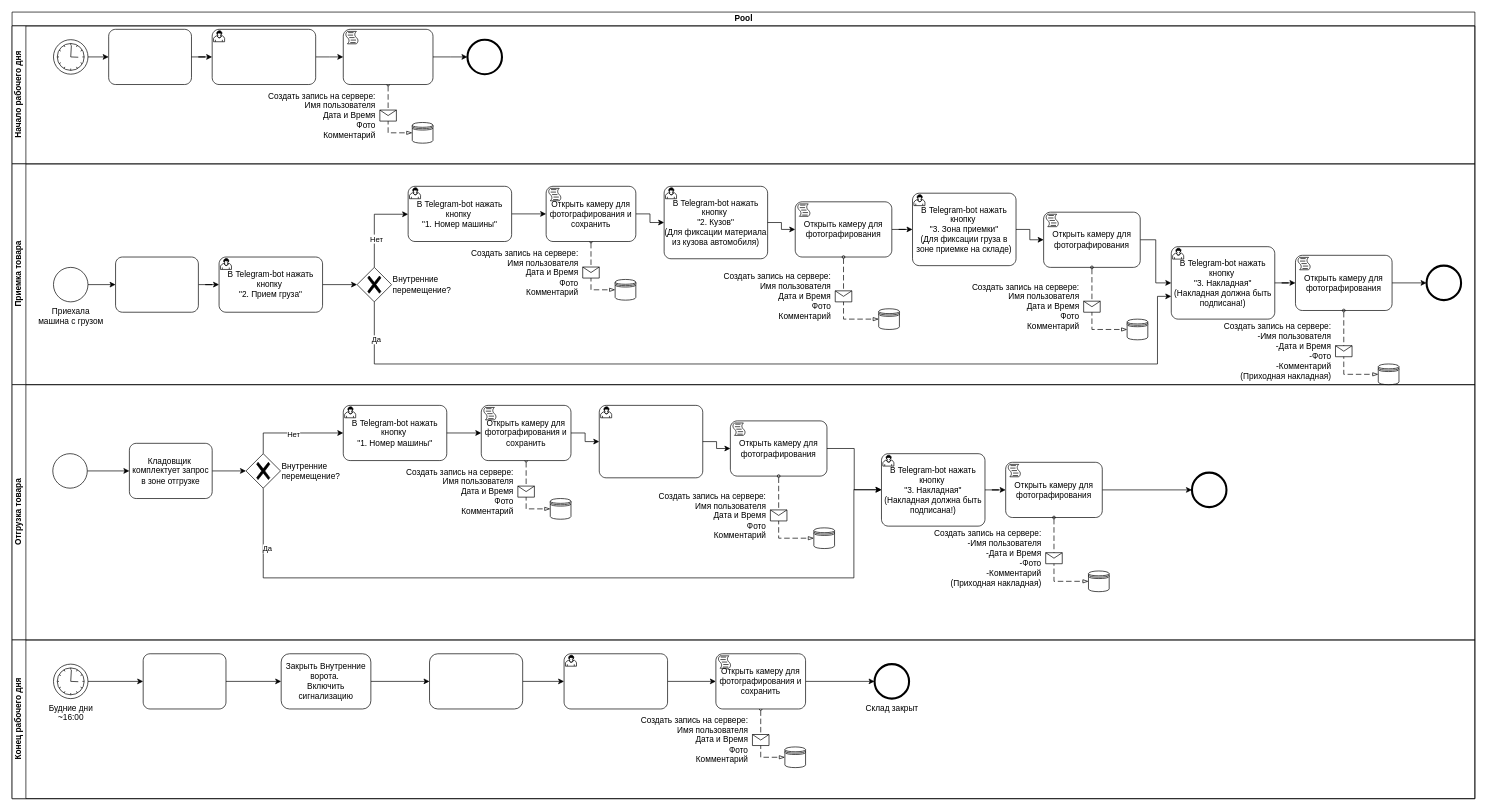
This 1487x811 diagram has some shape labels left out. The shapes that lost their labels are listed below. From the top down, each one's centre as x and y in pixels, then its label:
(70,56): Будние дни ~7:30
(149,57): Кладовщик подходит к воротам склада
(263,57): В Telegram-bot нажать кнопку "1. Открытие склада"
(388,57): Открыть камеру для фотографирования бирки 1 и сохранить
(484,56): Склад открыт
(156,284): Кладовщик подходит к Машине
(1443,282): Груз принят
(651,441): В Telegram-bot нажать кнопку "2. Кузов" (Для фиксации груза в кузове автомобиля)
(69,470): Получен запрос на склад через 1С
(1208,489): Груз отправлен
(184,681): Выключить свет на всем складе. (Отключение автоматов в щитке)
(476,681): Закрыть Внешние ворота. Повесить бирку на петли ворот.
(615,681): В Telegram-bot нажать кнопку "4. Конец рабочего дня"
